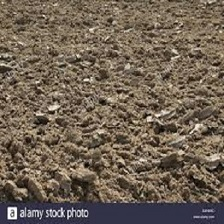loamy_soil: (9, 8, 217, 188)
